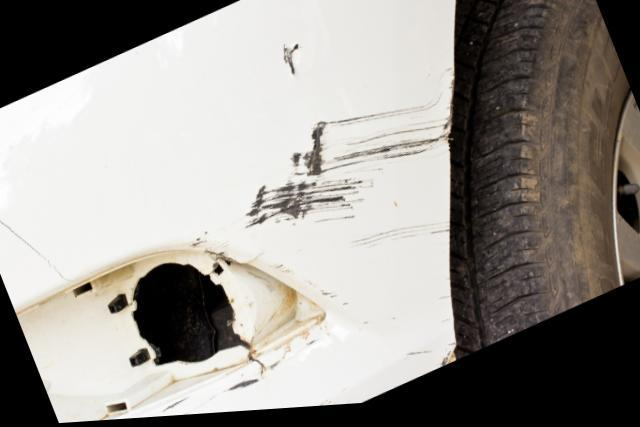crack: (0, 215, 74, 287), (239, 341, 266, 377)
scratch: (193, 73, 457, 386), (156, 359, 376, 419)
